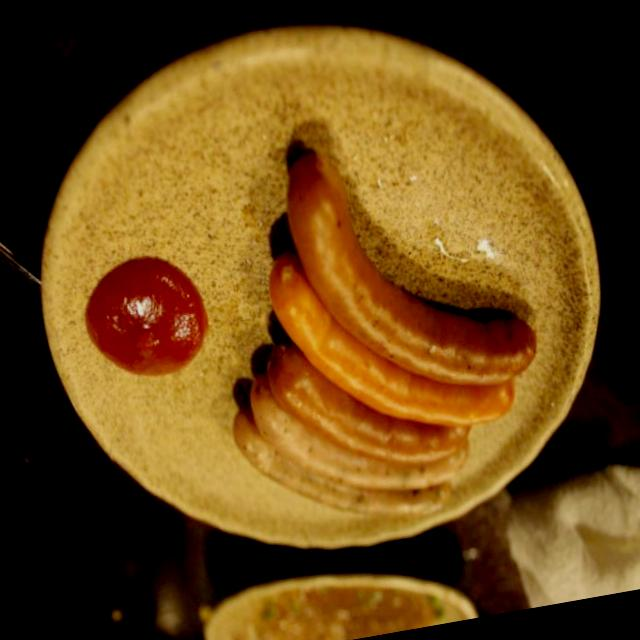Sausage: (177, 117, 579, 555)
